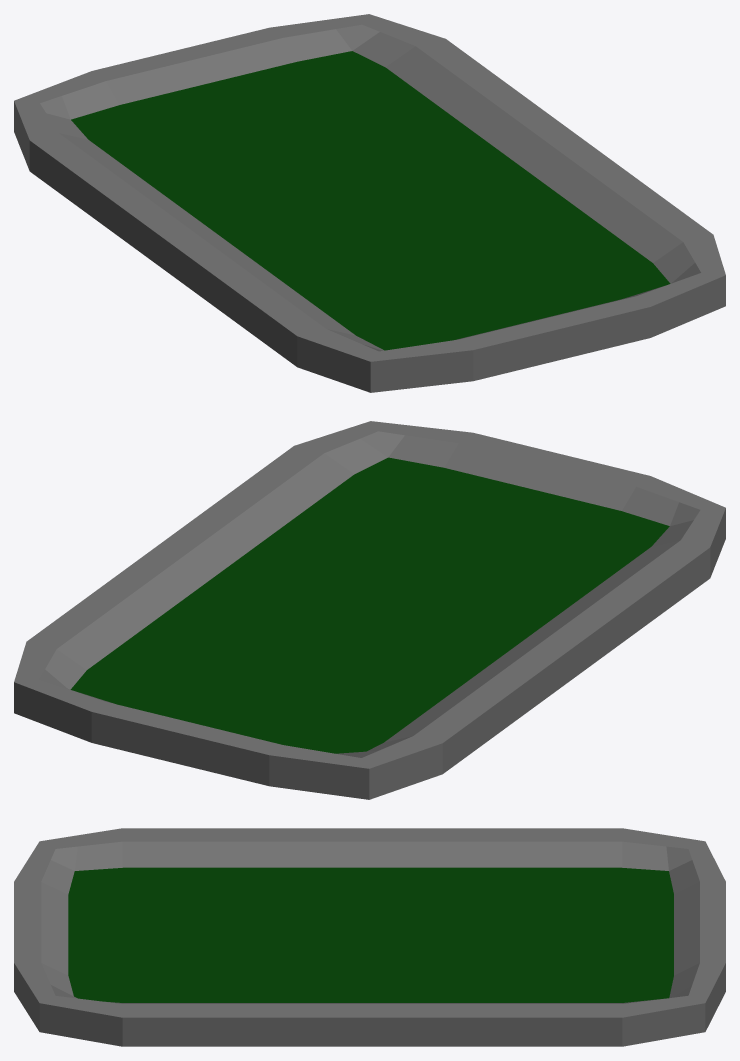
The model's file is jardinarbre.fbx.
The picture shows the model from 3 angles, top to bottom: view 1: azimuth 30°, elevation 25°; view 2: azimuth 150°, elevation 25°; view 3: azimuth 270°, elevation 25°; orthographic projection. The views are drawn at different scales.
Parts seen in each view (by area): view 1: Cube; view 2: Cube; view 3: Cube.
Boxes of the visible parts, left/top/right/bottom form: Cube: left=14, top=14, right=725, bottom=392; Cube: left=14, top=421, right=725, bottom=799; Cube: left=14, top=828, right=725, bottom=1046.
Bounding box in the file's own units: 488 × 34.81 × 774.
